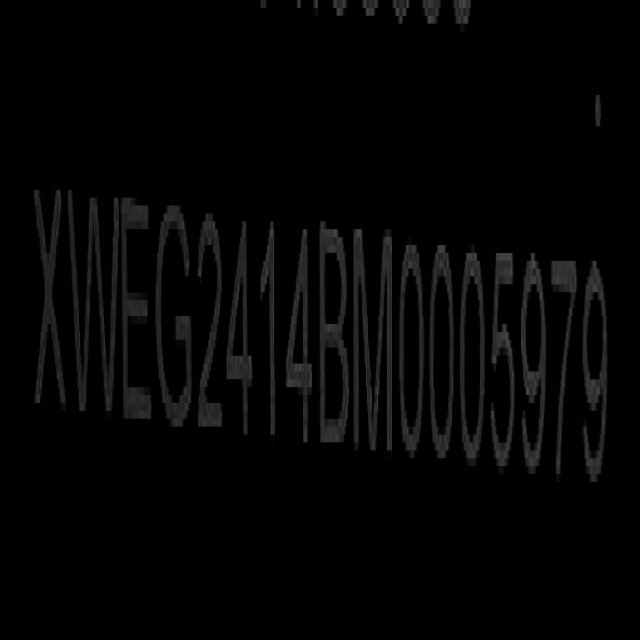0: (458, 243, 487, 486), (397, 222, 426, 460), (428, 234, 456, 468)
1: (261, 208, 278, 430)
2: (197, 211, 224, 430)
4: (224, 196, 255, 451), (284, 219, 317, 442)
5: (491, 246, 516, 480)
7: (552, 252, 578, 486)
9: (520, 240, 549, 486), (582, 257, 610, 486)
B: (318, 208, 353, 450)
E: (120, 184, 155, 439)
G: (154, 182, 192, 430)
M: (353, 216, 395, 456)
W: (65, 155, 122, 427)
X: (32, 178, 66, 416)
